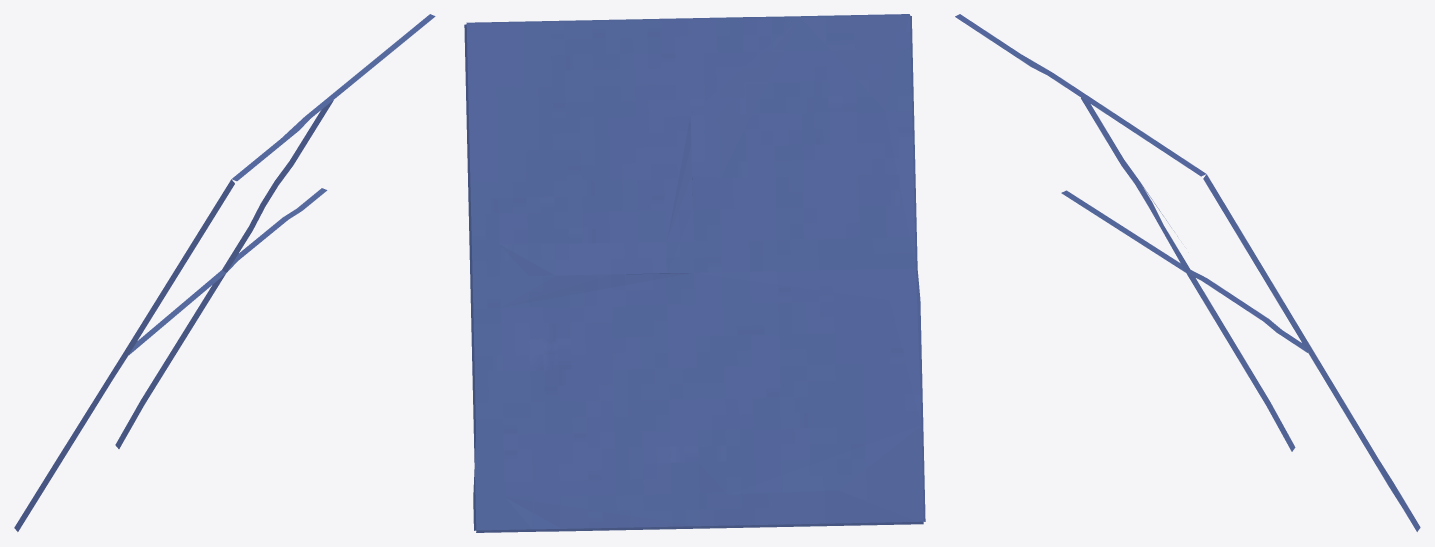
3 views of the same model, side by side, from view 1: azimuth 30°, elevation 25°; view 2: azimuth 150°, elevation 25°; view 3: azimuth 270°, elevation 25° (orthographic). The views are drawn at different scales.
Bounding box in the file's own units: 79053 × 69241 × 70368.
1 material, 1 textured.
